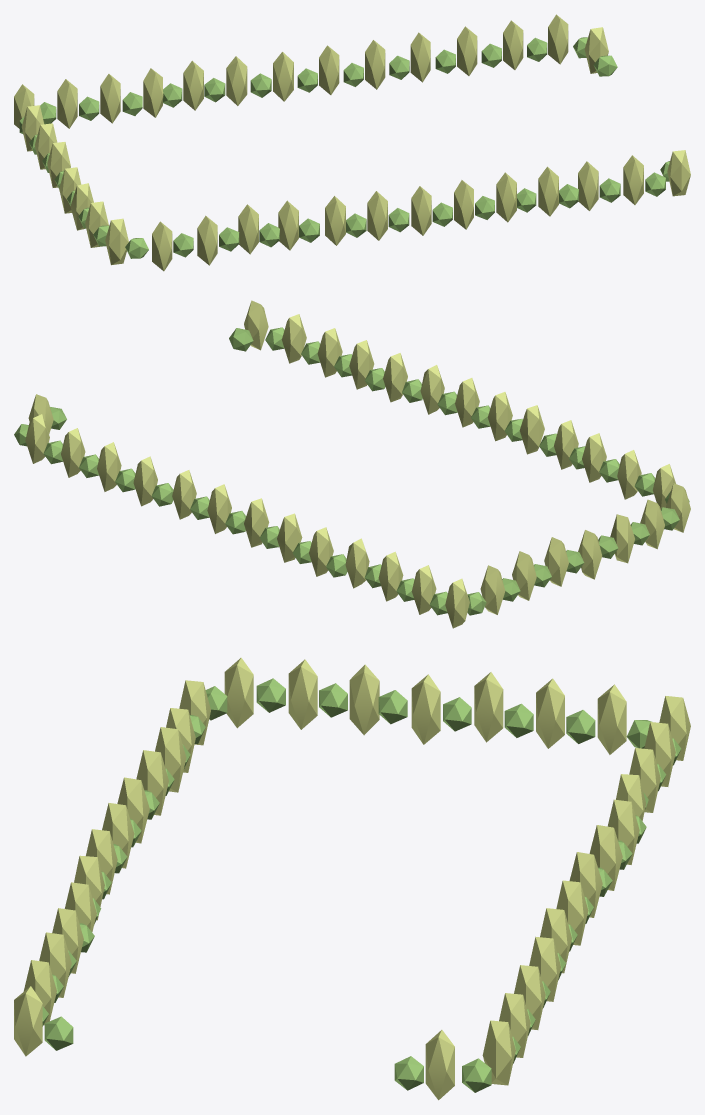
The model's file is bushes.obj.
The picture shows the model from 3 angles, top to bottom: view 1: azimuth 30°, elevation 25°; view 2: azimuth 150°, elevation 25°; view 3: azimuth 270°, elevation 25°; orthographic projection. The views are drawn at different scales.
Visible parts, largest first — view 1: Объект_Куб.009, Объект_Куб.008, Объект_Куб.009 (3), Объект_Куб.009 (2), Объект_Куб.008 (1); view 2: Объект_Куб.009, Объект_Куб.008, Объект_Куб.008 (1), Объект_Куб.009 (2), Объект_Куб.009 (3); view 3: Объект_Куб.009, Объект_Куб.008, Объект_Куб.008 (1), Объект_Куб.009 (2), Объект_Куб.009 (3), Объект_Куб.008 (2), Объект_Куб.008 (3).
Boxes of the visible parts, box(x1,y1,x2,y2) form: Объект_Куб.009: box(14, 14, 690, 271); Объект_Куб.008: box(19, 37, 665, 258); Объект_Куб.009 (3): box(85, 201, 108, 247); Объект_Куб.009 (2): box(70, 183, 93, 230); Объект_Куб.008 (1): box(54, 55, 669, 188); Объект_Куб.009: box(25, 300, 690, 628); Объект_Куб.008: box(14, 327, 689, 615); Объект_Куб.008 (1): box(50, 328, 584, 573); Объект_Куб.009 (2): box(610, 514, 634, 563); Объект_Куб.009 (3): box(640, 499, 664, 549); Объект_Куб.009: box(14, 657, 690, 1100); Объект_Куб.008: box(42, 678, 681, 1092); Объект_Куб.008 (1): box(44, 697, 471, 1090); Объект_Куб.009 (2): box(349, 664, 379, 735); Объект_Куб.009 (3): box(288, 659, 317, 729); Объект_Куб.008 (2): box(378, 690, 407, 724); Объект_Куб.008 (3): box(319, 683, 347, 717).
Bounding box in the file's own units: 106 × 9.12 × 76.73.
